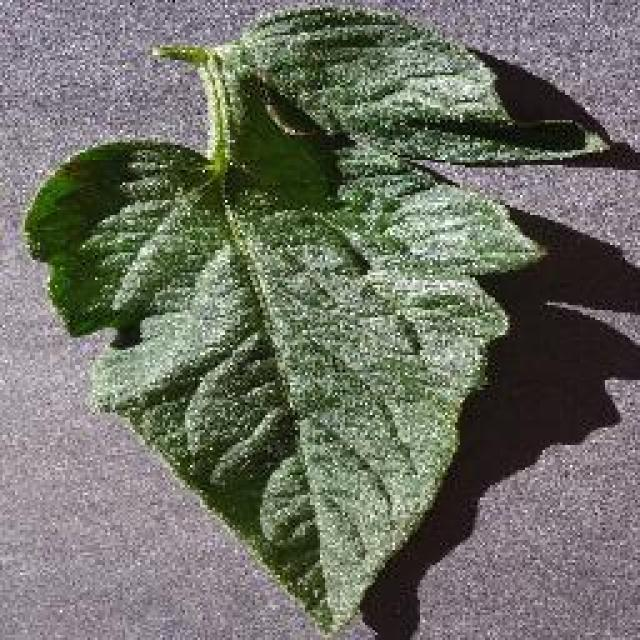Tomato___healthy: (18, 7, 617, 633)
